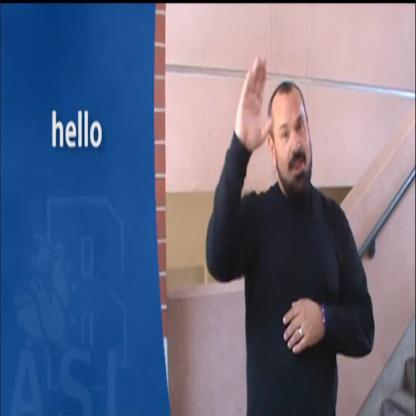Hello: (226, 54, 322, 218)
